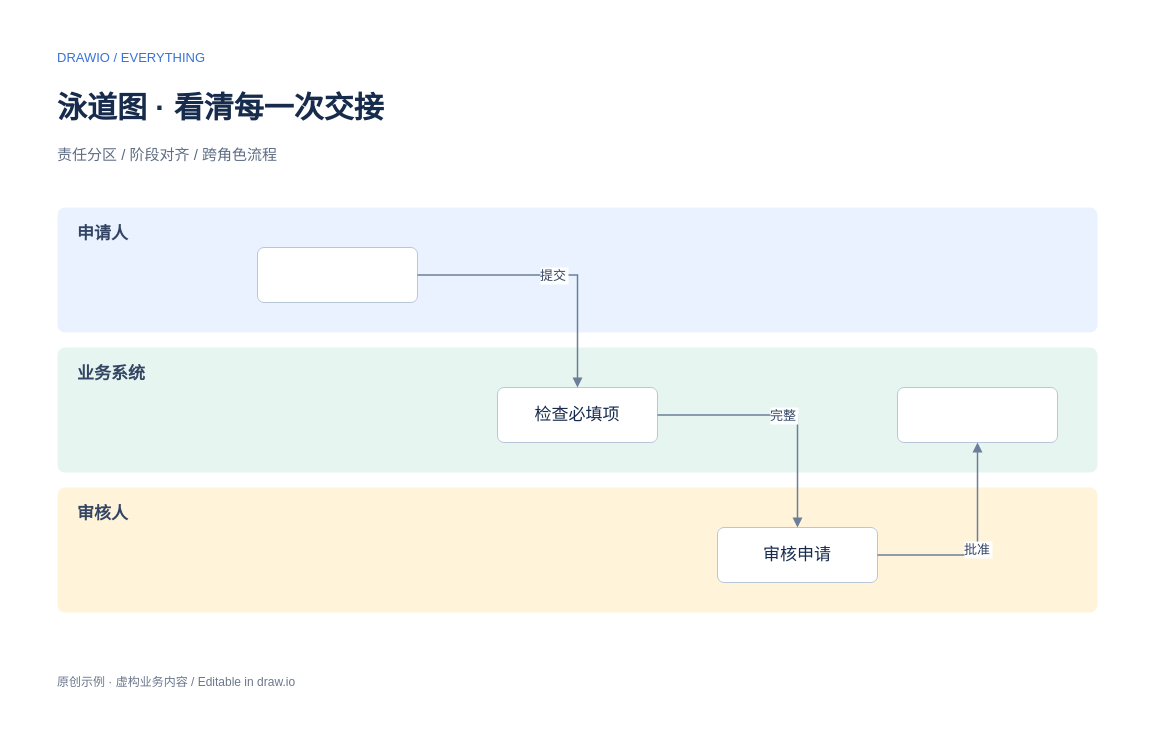
This 1154x734 diagram has some shape labels left out. Here are the shapes that lost their labels. From the top down, the box of each, then its label:
(256, 246, 418, 302): 提交申请
(896, 386, 1058, 442): 确认并归档
